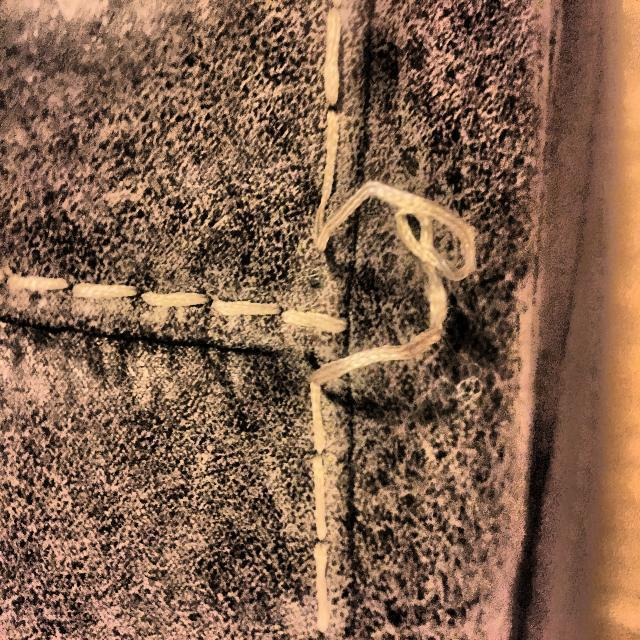gray stitch: (284, 135, 490, 463)
